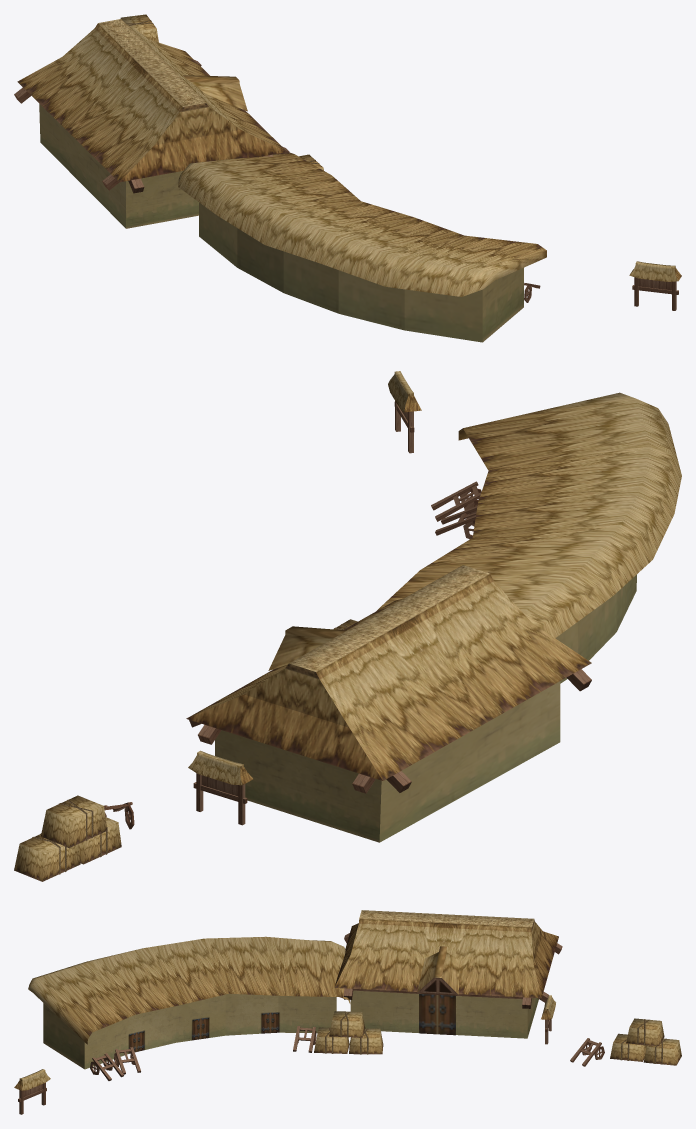
File: Area_12_58.fbx
3 renders of one model, top to bottom at view 1: azimuth 30°, elevation 25°; view 2: azimuth 150°, elevation 25°; view 3: azimuth 270°, elevation 25°, orthographic. The views are drawn at different scales.
Parts seen in each view (by area): view 1: Area_12_58; view 2: Area_12_58; view 3: Area_12_58.
Part boxes in pixels (bbox=[...]): Area_12_58: bbox=[14, 14, 681, 342]; Area_12_58: bbox=[14, 371, 681, 881]; Area_12_58: bbox=[14, 910, 681, 1114].
Bounding box in the file's own units: 2501 × 774 × 4941.
